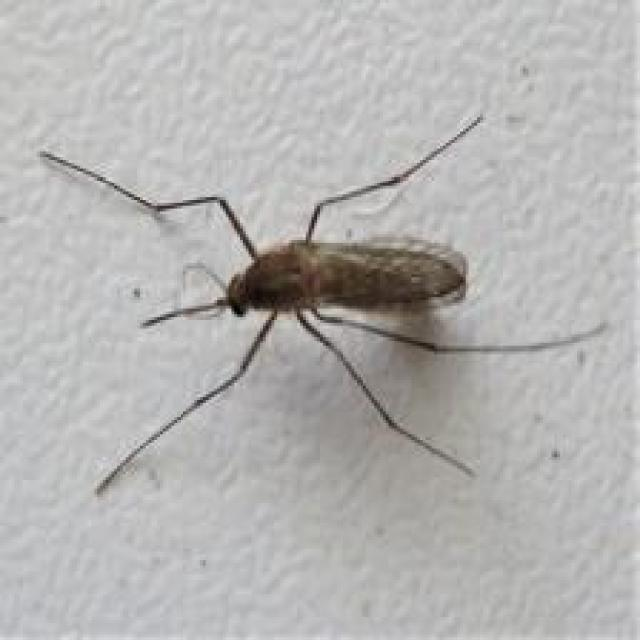Culex: (37, 110, 609, 499)
